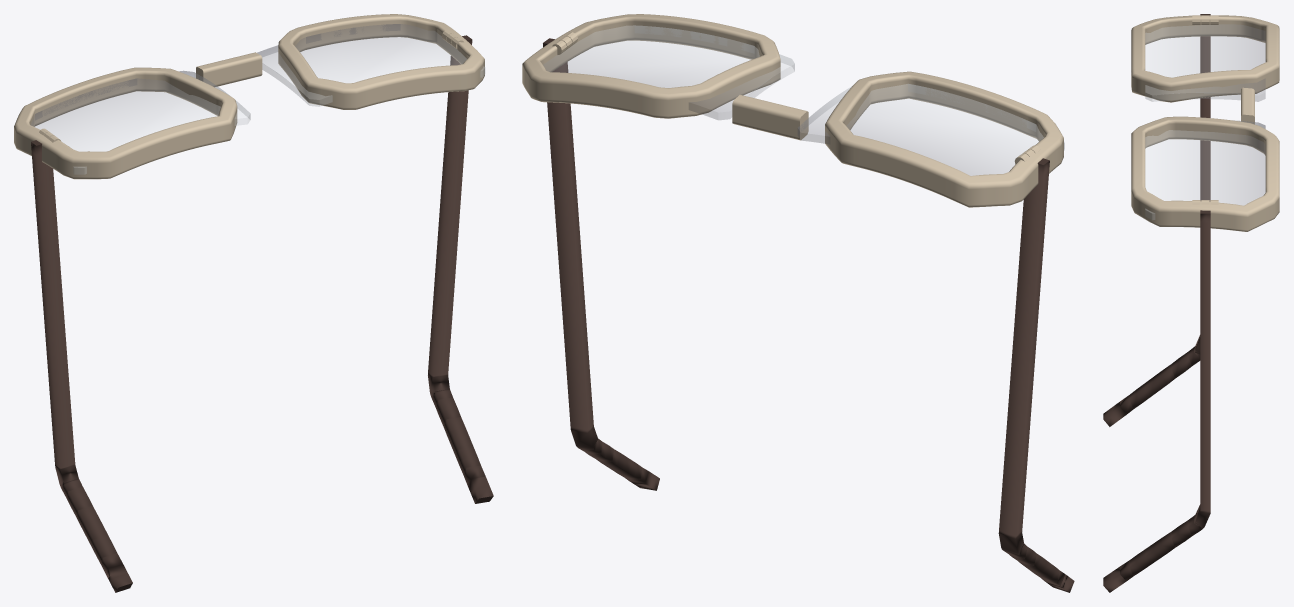
File: cateye-metal.glb
3 views of the same model, side by side, from view 1: azimuth 30°, elevation 25°; view 2: azimuth 150°, elevation 25°; view 3: azimuth 270°, elevation 25° (orthographic). The views are drawn at different scales.
Visible parts, largest first — view 1: MEL_eyewear_Frame, MEL_eyewear_TempleR, MEL_eyewear_TempleL, MEL_eyewear_LensL, MEL_eyewear_LensR; view 2: MEL_eyewear_Frame, MEL_eyewear_LensL, MEL_eyewear_LensR, MEL_eyewear_TempleR, MEL_eyewear_TempleL; view 3: MEL_eyewear_Frame, MEL_eyewear_LensR, MEL_eyewear_LensL, MEL_eyewear_TempleL, MEL_eyewear_TempleR.
Boxes of the visible parts, x1=… form: MEL_eyewear_Frame: x1=14, y1=14, x2=484, y2=179; MEL_eyewear_TempleR: x1=31, y1=140, x2=132, y2=592; MEL_eyewear_TempleL: x1=428, y1=35, x2=493, y2=503; MEL_eyewear_LensL: x1=31, y1=70, x2=250, y2=174; MEL_eyewear_LensR: x1=257, y1=24, x2=485, y2=106; MEL_eyewear_Frame: x1=522, y1=14, x2=1063, y2=207; MEL_eyewear_LensL: x1=797, y1=84, x2=1064, y2=175; MEL_eyewear_LensR: x1=543, y1=25, x2=794, y2=119; MEL_eyewear_TempleR: x1=998, y1=158, x2=1074, y2=592; MEL_eyewear_TempleL: x1=543, y1=38, x2=659, y2=490; MEL_eyewear_Frame: x1=1131, y1=15, x2=1279, y2=231; MEL_eyewear_LensR: x1=1145, y1=120, x2=1265, y2=219; MEL_eyewear_LensL: x1=1145, y1=24, x2=1265, y2=101; MEL_eyewear_TempleL: x1=1103, y1=210, x2=1210, y2=592; MEL_eyewear_TempleR: x1=1103, y1=14, x2=1210, y2=426.
Bounding box in the file's own units: 0.1336 × 0.1281 × 0.0499.
